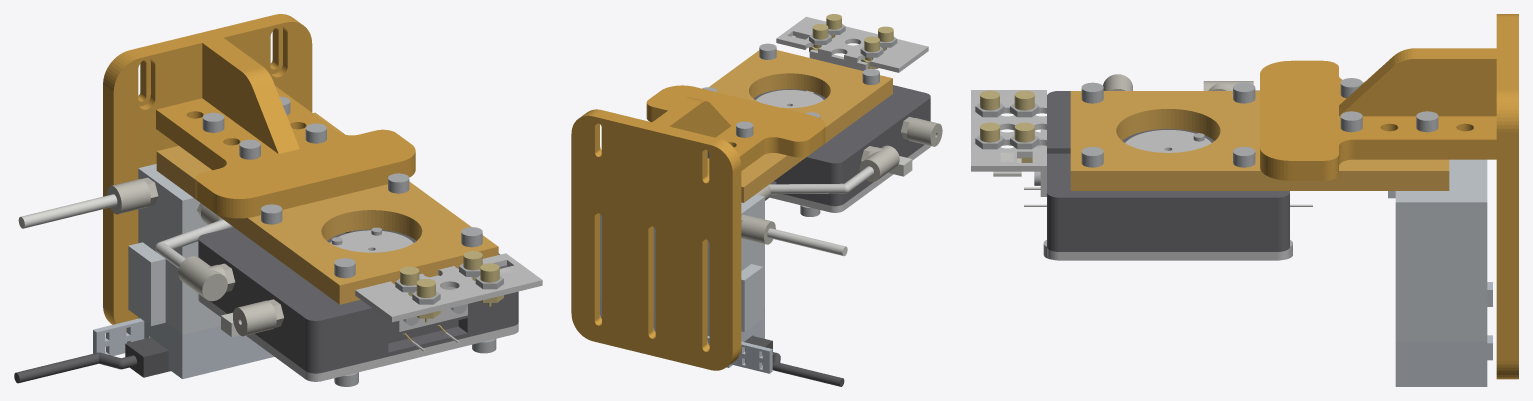
The model's file is v60_2t_dark.glb.
3 views of the same model, side by side, from view 1: azimuth 30°, elevation 25°; view 2: azimuth 150°, elevation 25°; view 3: azimuth 270°, elevation 25° (orthographic). The views are drawn at different scales.
Parts seen in each view (by area): view 1: Grace 2025 앵글 브래킷 "angle bracket for Ramen holder.STEP" (형상 , Grace 새 세로판 60x120x7 (재출력, 레진 가정), Ø4.5 x4 48x48, Ø33, 배기 블록, 셀 몸체 v6.0 Al 6061 흑색 아노다이징 80x77x19 R4 (공동 69x62 깊이 9, ±Z 경사, [배기 블록 v2] 배기 센서 블록 본체 PETG 60x29x48.5 (가스 몸 17.5 + 센서 칸 31,, [배기 블록 v2] 덮개 PETG 60x29x16 (판 2 + Pico 트레이 14): Pico 보스 4, , 커넥터 브래킷 Al (밑판 26x18x2 + 판 57x24x2; v4.7 부품 그대로, 윗면 Z 38.5):, [배기 블록 v2] USB 케이블 (노트북으로, 타이로 선반에 고정; 노트북은 허치 안 가능), 뚜껑 Al 6061 흑색 아노다이징 (마스킹 없음, 필름 접착면 포함): 판 80x77x3 (Y -12…-9, 가스 KQ2L04-M5 엘보 출구 −X 옆면 (Y 4.5, Z -16, 관 포트 아래로; 외형 가정) → 배, SMA 암 판넬 잭 x4 (SAMZO SMA-KY-214형, 가정), M4x12 렌치볼트 x4 (판 뒤에서 몸체 M4 탭으로), 가스 KQ2H04-M5 입구 −X 옆면 (Y 4.5, Z +16) → Ø2 → 바닥 (-36, +16) (+7 smaller); view 2: Grace 2025 앵글 브래킷 "angle bracket for Ramen holder.STEP" (형상 , Grace 새 세로판 60x120x7 (재출력, 레진 가정), Ø4.5 x4 48x48, Ø33, 배기 블록, 셀 몸체 v6.0 Al 6061 흑색 아노다이징 80x77x19 R4 (공동 69x62 깊이 9, ±Z 경사, 커넥터 브래킷 Al (밑판 26x18x2 + 판 57x24x2; v4.7 부품 그대로, 윗면 Z 38.5):, [배기 블록 v2] 배기 센서 블록 본체 PETG 60x29x48.5 (가스 몸 17.5 + 센서 칸 31,, [배기 블록 v2] 덮개 PETG 60x29x16 (판 2 + Pico 트레이 14): Pico 보스 4, , PU 관 Ø4 (셀 출구 엘보 → 배기 블록 v2 입구; MS8607 4716은 이 블록의 SHT45 자리에, SMA 암 판넬 잭 x4 (SAMZO SMA-KY-214형, 가정), [배기 블록 v2] USB 케이블 (노트북으로, 타이로 선반에 고정; 노트북은 허치 안 가능), 뚜껑 Al 6061 흑색 아노다이징 (마스킹 없음, 필름 접착면 포함): 판 80x77x3 (Y -12…-9, 가스 KQ2L04-M5 엘보 출구 −X 옆면 (Y 4.5, Z -16, 관 포트 아래로; 외형 가정) → 배, 가스 KQ2H04-M5 입구 −X 옆면 (Y 4.5, Z +16) → Ø2 → 바닥 (-36, +16) (+5 smaller); view 3: Grace 2025 앵글 브래킷 "angle bracket for Ramen holder.STEP" (형상 , Grace 새 세로판 60x120x7 (재출력, 레진 가정), Ø4.5 x4 48x48, Ø33, 배기 블록, 셀 몸체 v6.0 Al 6061 흑색 아노다이징 80x77x19 R4 (공동 69x62 깊이 9, ±Z 경사, [배기 블록 v2] 배기 센서 블록 본체 PETG 60x29x48.5 (가스 몸 17.5 + 센서 칸 31,, [배기 블록 v2] 덮개 PETG 60x29x16 (판 2 + Pico 트레이 14): Pico 보스 4, , 커넥터 브래킷 Al (밑판 26x18x2 + 판 57x24x2; v4.7 부품 그대로, 윗면 Z 38.5):, 뚜껑 Al 6061 흑색 아노다이징 (마스킹 없음, 필름 접착면 포함): 판 80x77x3 (Y -12…-9, M4x12 렌치볼트 x4 (판 뒤에서 몸체 M4 탭으로), SMA 암 판넬 잭 x4 (SAMZO SMA-KY-214형, 가정), 어두움 마개 Al Ø15.8 + 단 Ø19.8 (카운터보어 안) + 나사 턱 Ø29x0.6 + 뒷면 가운데 , M4x16 볼트 + 너트 x4 (판 아래 구멍 ↔ 브래킷 세움판), SMA 너트 AF 8 x4.
Boxes of the visible parts, bbox=[...] form: Grace 2025 앵글 브래킷 "angle bracket for Ramen holder.STEP" (형상 : bbox=[103, 14, 415, 332]; Grace 새 세로판 60x120x7 (재출력, 레진 가정), Ø4.5 x4 48x48, Ø33, 배기 블록: bbox=[156, 112, 498, 304]; 셀 몸체 v6.0 Al 6061 흑색 아노다이징 80x77x19 R4 (공동 69x62 깊이 9, ±Z 경사: bbox=[198, 227, 518, 373]; [배기 블록 v2] 배기 센서 블록 본체 PETG 60x29x48.5 (가스 몸 17.5 + 센서 칸 31,: bbox=[128, 164, 220, 334]; [배기 블록 v2] 덮개 PETG 60x29x16 (판 2 + Pico 트레이 14): Pico 보스 4, : bbox=[93, 317, 274, 379]; 커넥터 브래킷 Al (밑판 26x18x2 + 판 57x24x2; v4.7 부품 그대로, 윗면 Z 38.5):: bbox=[355, 253, 542, 331]; [배기 블록 v2] USB 케이블 (노트북으로, 타이로 선반에 고정; 노트북은 허치 안 가능): bbox=[14, 337, 170, 383]; 뚜껑 Al 6061 흑색 아노다이징 (마스킹 없음, 필름 접착면 포함): 판 80x77x3 (Y -12…-9: bbox=[198, 294, 518, 381]; 가스 KQ2L04-M5 엘보 출구 −X 옆면 (Y 4.5, Z -16, 관 포트 아래로; 외형 가정) → 배: bbox=[178, 256, 235, 301]; SMA 암 판넬 잭 x4 (SAMZO SMA-KY-214형, 가정): bbox=[400, 251, 503, 322]; M4x12 렌치볼트 x4 (판 뒤에서 몸체 M4 탭으로): bbox=[261, 173, 482, 278]; 가스 KQ2H04-M5 입구 −X 옆면 (Y 4.5, Z +16) → Ø2 → 바닥 (-36, +16): bbox=[233, 299, 283, 336]; Grace 2025 앵글 브래킷 "angle bracket for Ramen holder.STEP" (형상 : bbox=[571, 85, 825, 370]; Grace 새 세로판 60x120x7 (재출력, 레진 가정), Ø4.5 x4 48x48, Ø33, 배기 블록: bbox=[709, 50, 892, 202]; 셀 몸체 v6.0 Al 6061 흑색 아노다이징 80x77x19 R4 (공동 69x62 깊이 9, ±Z 경사: bbox=[753, 85, 930, 206]; 커넥터 브래킷 Al (밑판 26x18x2 + 판 57x24x2; v4.7 부품 그대로, 윗면 Z 38.5):: bbox=[776, 16, 928, 72]; [배기 블록 v2] 배기 센서 블록 본체 PETG 60x29x48.5 (가스 몸 17.5 + 센서 칸 31,: bbox=[600, 194, 764, 331]; [배기 블록 v2] 덮개 PETG 60x29x16 (판 2 + Pico 트레이 14): Pico 보스 4, : bbox=[600, 300, 772, 373]; PU 관 Ø4 (셀 출구 엘보 → 배기 블록 v2 입구; MS8607 4716은 이 블록의 SHT45 자리에: bbox=[769, 166, 873, 194]; SMA 암 판넬 잭 x4 (SAMZO SMA-KY-214형, 가정): bbox=[809, 14, 893, 68]; [배기 블록 v2] USB 케이블 (노트북으로, 타이로 선반에 고정; 노트북은 허치 안 가능): bbox=[744, 336, 844, 386]; 뚜껑 Al 6061 흑색 아노다이징 (마스킹 없음, 필름 접착면 포함): 판 80x77x3 (Y -12…-9: bbox=[769, 144, 930, 212]; 가스 KQ2L04-M5 엘보 출구 −X 옆면 (Y 4.5, Z -16, 관 포트 아래로; 외형 가정) → 배: bbox=[859, 145, 899, 181]; 가스 KQ2H04-M5 입구 −X 옆면 (Y 4.5, Z +16) → Ø2 → 바닥 (-36, +16): bbox=[901, 117, 942, 146]; Grace 2025 앵글 브래킷 "angle bracket for Ramen holder.STEP" (형상 : bbox=[1260, 14, 1518, 379]; Grace 새 세로판 60x120x7 (재출력, 레진 가정), Ø4.5 x4 48x48, Ø33, 배기 블록: bbox=[1070, 91, 1449, 190]; 셀 몸체 v6.0 Al 6061 흑색 아노다이징 80x77x19 R4 (공동 69x62 깊이 9, ±Z 경사: bbox=[1047, 91, 1289, 251]; [배기 블록 v2] 배기 센서 블록 본체 PETG 60x29x48.5 (가스 몸 17.5 + 센서 칸 31,: bbox=[1388, 159, 1487, 341]; [배기 블록 v2] 덮개 PETG 60x29x16 (판 2 + Pico 트레이 14): Pico 보스 4, : bbox=[1395, 282, 1492, 386]; 커넥터 브래킷 Al (밑판 26x18x2 + 판 57x24x2; v4.7 부품 그대로, 윗면 Z 38.5):: bbox=[971, 90, 1046, 196]; 뚜껑 Al 6061 흑색 아노다이징 (마스킹 없음, 필름 접착면 포함): 판 80x77x3 (Y -12…-9: bbox=[1047, 247, 1289, 260]; M4x12 렌치볼트 x4 (판 뒤에서 몸체 M4 탭으로): bbox=[1081, 82, 1255, 167]; SMA 암 판넬 잭 x4 (SAMZO SMA-KY-214형, 가정): bbox=[980, 90, 1035, 162]; 어두움 마개 Al Ø15.8 + 단 Ø19.8 (카운터보어 안) + 나사 턱 Ø29x0.6 + 뒷면 가운데 : bbox=[1125, 130, 1211, 152]; M4x16 볼트 + 너트 x4 (판 아래 구멍 ↔ 브래킷 세움판): bbox=[1340, 78, 1438, 132]; SMA 너트 AF 8 x4: bbox=[975, 103, 1039, 149].
Bounding box in the file's own units: 117 × 104 × 174.
